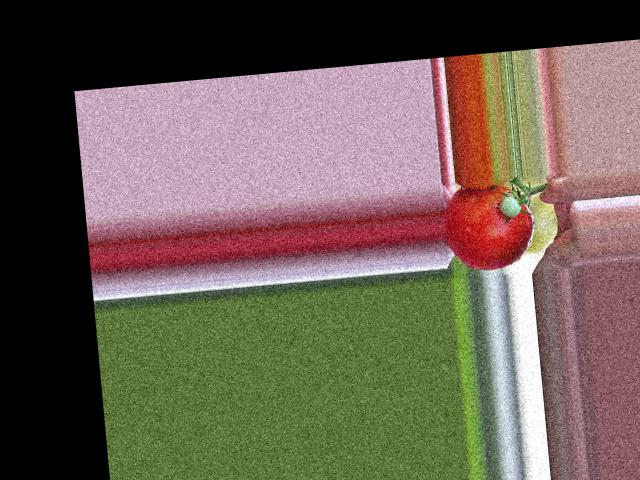tomato: (439, 181, 538, 273)
